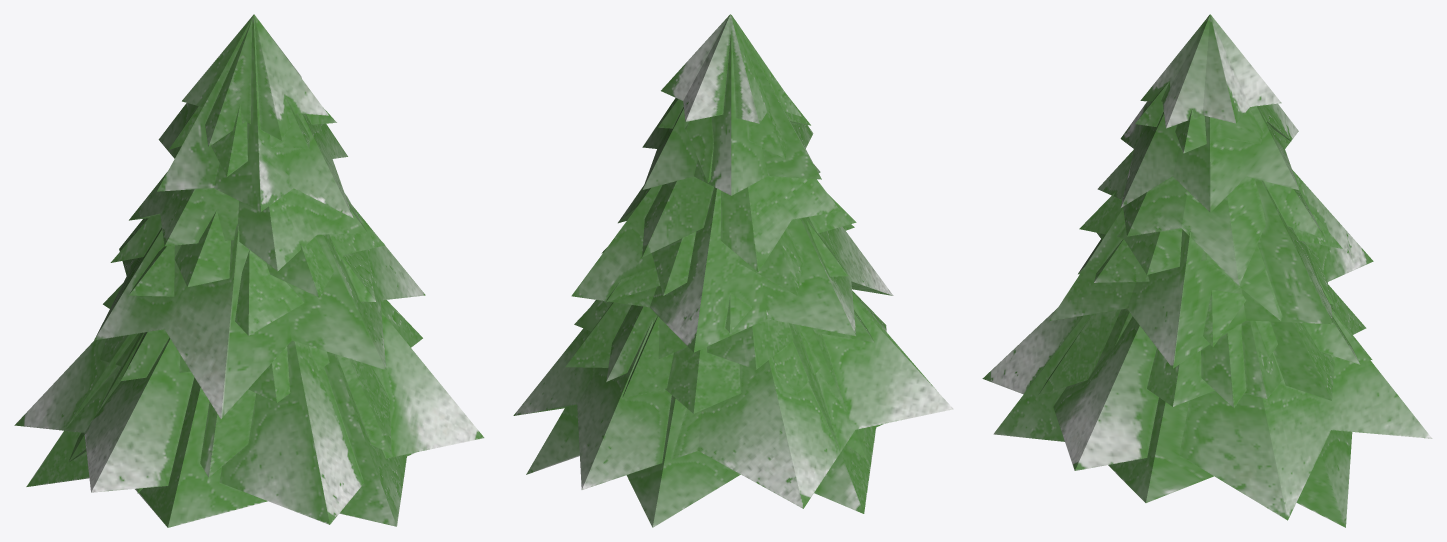
Rendered from uploads_files_3409994_ChristmasTree_2021_v6.fbx.
The picture shows the model from 3 angles, left to right: view 1: azimuth 30°, elevation 25°; view 2: azimuth 150°, elevation 25°; view 3: azimuth 270°, elevation 25°; orthographic projection. The views are drawn at different scales.
Parts seen in each view (by area): view 1: Tree_D; view 2: Tree_D; view 3: Tree_D.
Part boxes in pixels (x1,y1,x2,y2): Tree_D: (14,14,484,527); Tree_D: (513,14,953,527); Tree_D: (982,14,1432,527).
Size of the model in its own units: 413 by 479 by 437.
2 materials, 1 textured.
